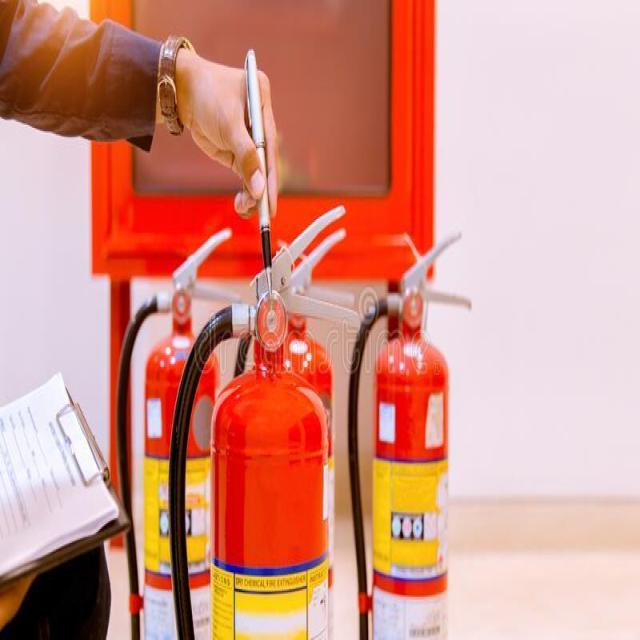fire_extinguisher: (170, 197, 370, 638), (104, 217, 242, 638), (347, 224, 478, 638)
